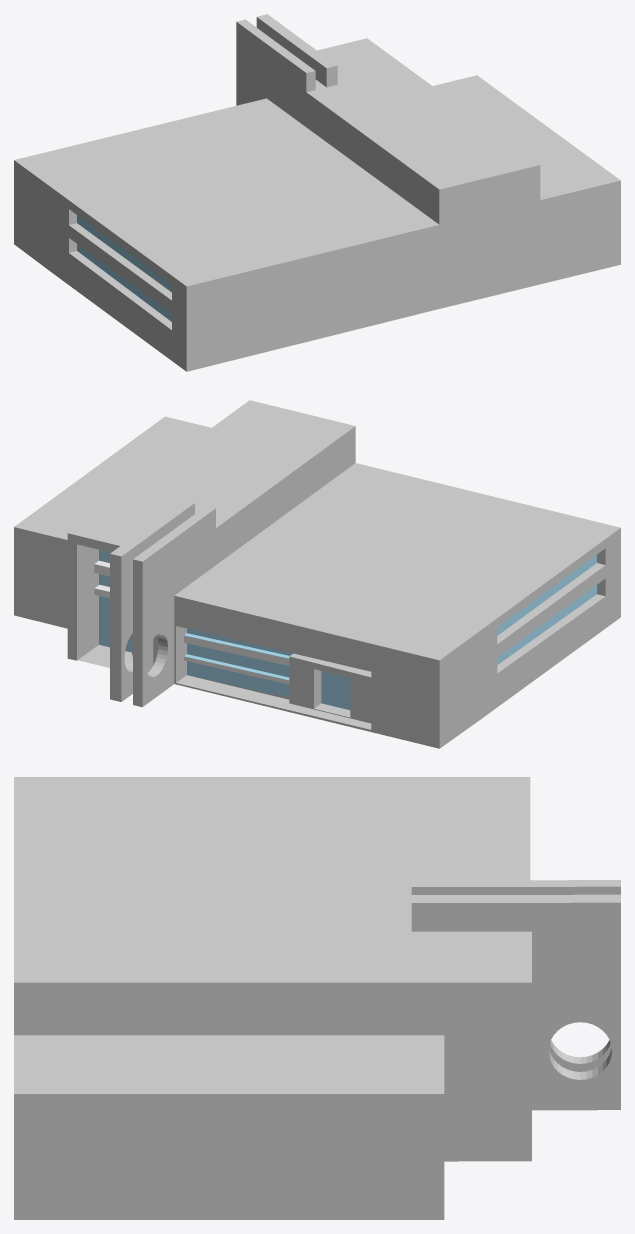
Rendered from EdificioBiblioteca 1.fbx.
3 views of the same model, one above another, from view 1: azimuth 30°, elevation 25°; view 2: azimuth 150°, elevation 25°; view 3: azimuth 270°, elevation 25° (orthographic). The views are drawn at different scales.
Parts seen in each view (by area): view 1: Cube.002; view 2: Cube.002; view 3: Cube.002.
Part boxes in pixels (x1,y1,x2,y2): Cube.002: [14, 14, 620, 371]; Cube.002: [14, 400, 620, 748]; Cube.002: [14, 777, 620, 1219].
Size of the model in its own units: 203 by 62.49 by 164.
